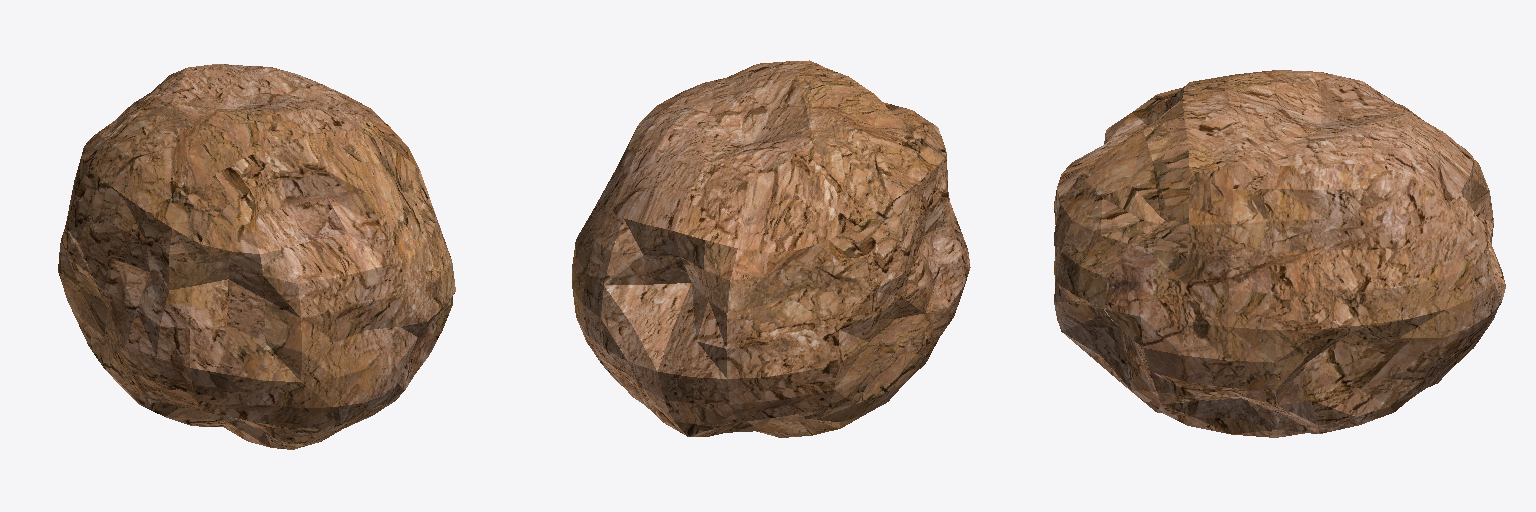
The picture shows the model from 3 angles: view 1: azimuth 30°, elevation 25°; view 2: azimuth 150°, elevation 25°; view 3: azimuth 270°, elevation 25°; orthographic projection.
Parts seen in each view (by area): view 1: pCube1; view 2: pCube1; view 3: pCube1.
Part boxes in pixels (x1,y1,x2,y2): pCube1: (58, 64, 455, 449); pCube1: (572, 60, 970, 437); pCube1: (1054, 70, 1505, 437).
Size of the model in its own units: 24.03 by 24.24 by 30.31.
Materials: 1 (1 with a texture image).